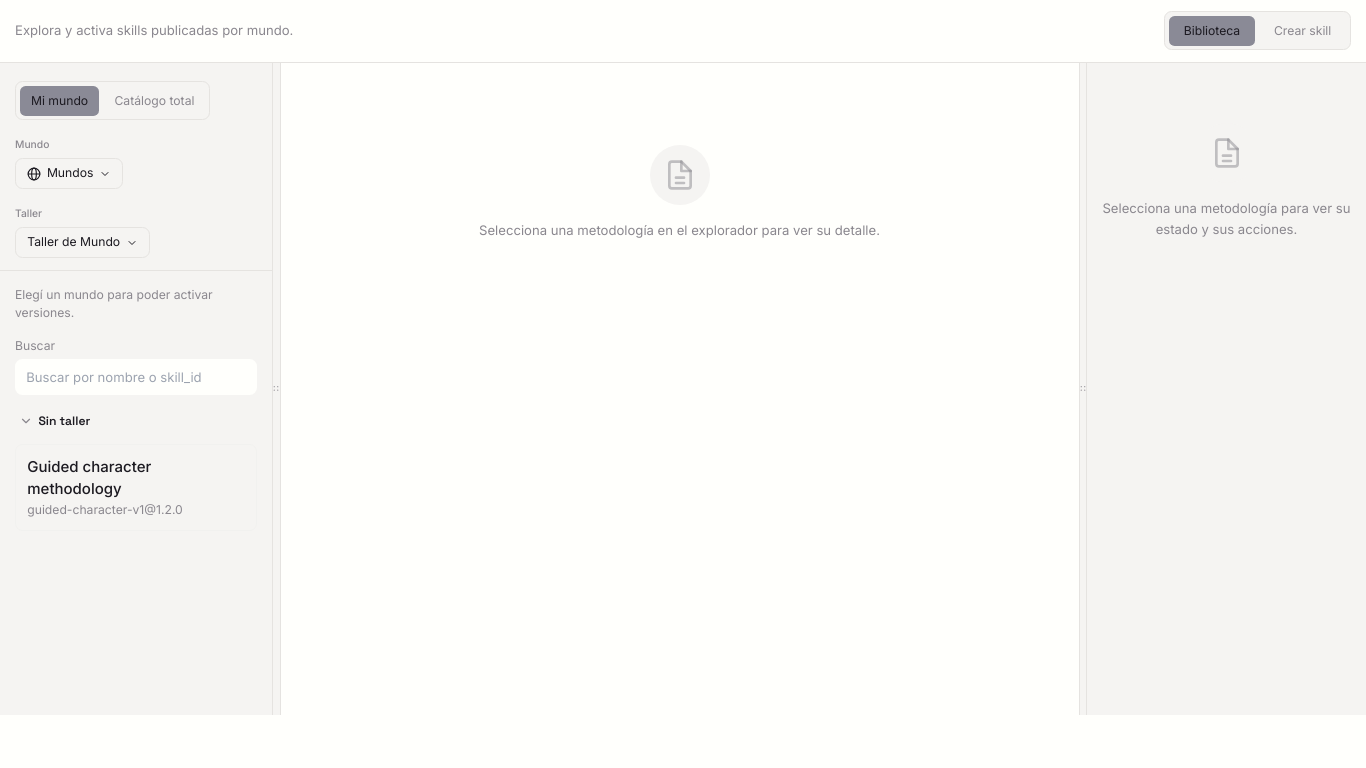
Test case: ToolWorkshop › offers exactly the operational taller options in the selector (OC-2 S4)
The image size is (1366, 768).
Click the button "Taller de Mundo" at [82, 243], box [15,227,150,258]
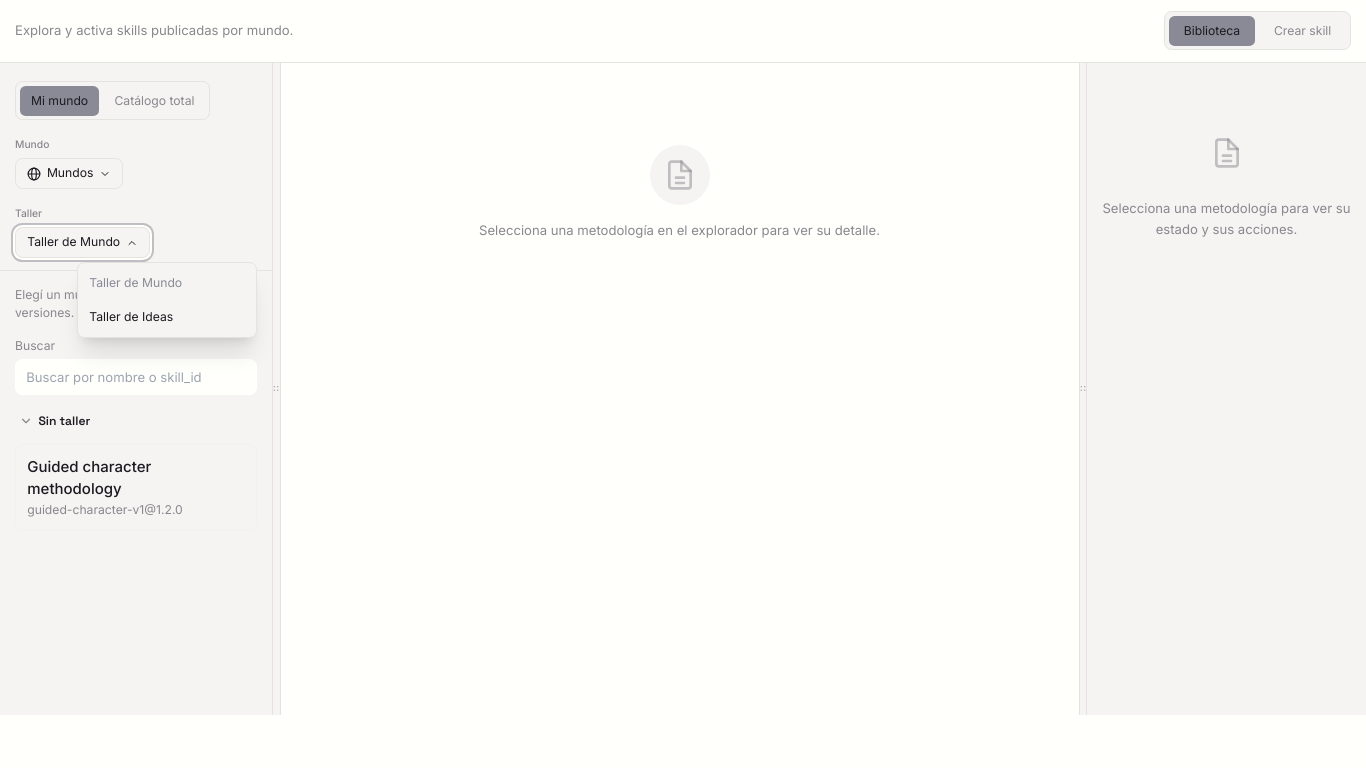
Check: the options read "Taller de Mundo", "Taller de Ideas", in this order, box [78,267,256,300]; [78,300,256,334]
Check: the number of options is 2, box [78,267,256,300]; [78,300,256,334]
